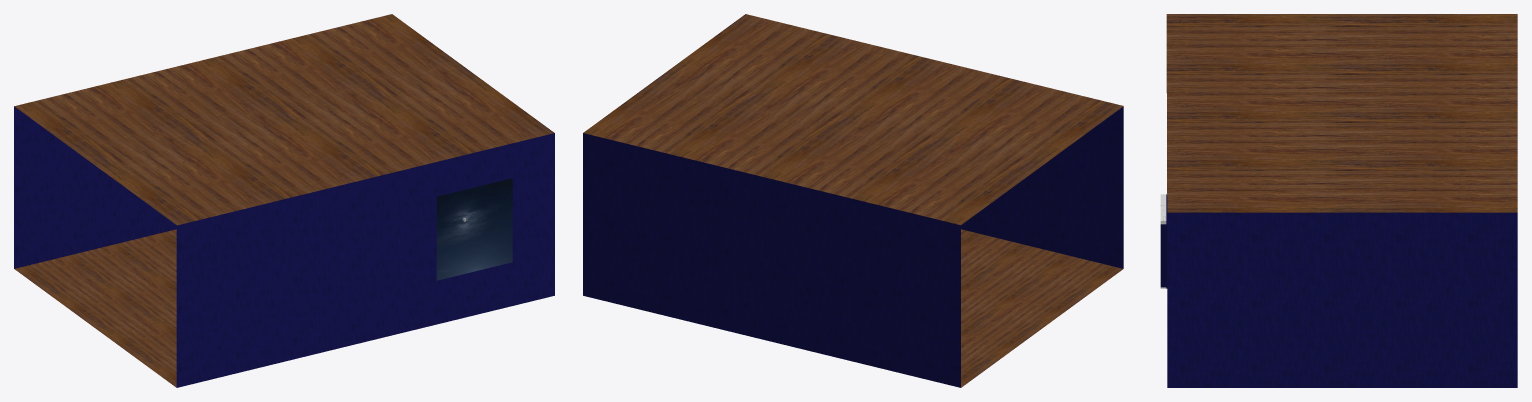
The model's file is PortifolioV2.glb.
3 renders of one model, left to right at view 1: azimuth 30°, elevation 25°; view 2: azimuth 150°, elevation 25°; view 3: azimuth 270°, elevation 25°, orthographic. The views are drawn at different scales.
Visible parts, largest first — view 1: Top, RightWall, LeftWall, Ground, WI_Background; view 2: LeftWall, Top, RightWall, Ground; view 3: Top, BackWall, RightWall.
Part boxes in pixels (<box>): Top: <box>14,14,554,225</box>; RightWall: <box>176,133,554,387</box>; LeftWall: <box>14,106,176,268</box>; Ground: <box>14,229,176,387</box>; WI_Background: <box>436,178,512,280</box>; LeftWall: <box>583,133,960,387</box>; Top: <box>583,14,1123,224</box>; RightWall: <box>961,106,1123,268</box>; Ground: <box>961,229,1122,387</box>; Top: <box>1166,14,1517,212</box>; BackWall: <box>1167,212,1517,387</box>; RightWall: <box>1160,194,1167,288</box>.
Bounding box in the file's own units: 6.56 × 2.7 × 5.09.
Materials: 23 (19 with a texture image).
